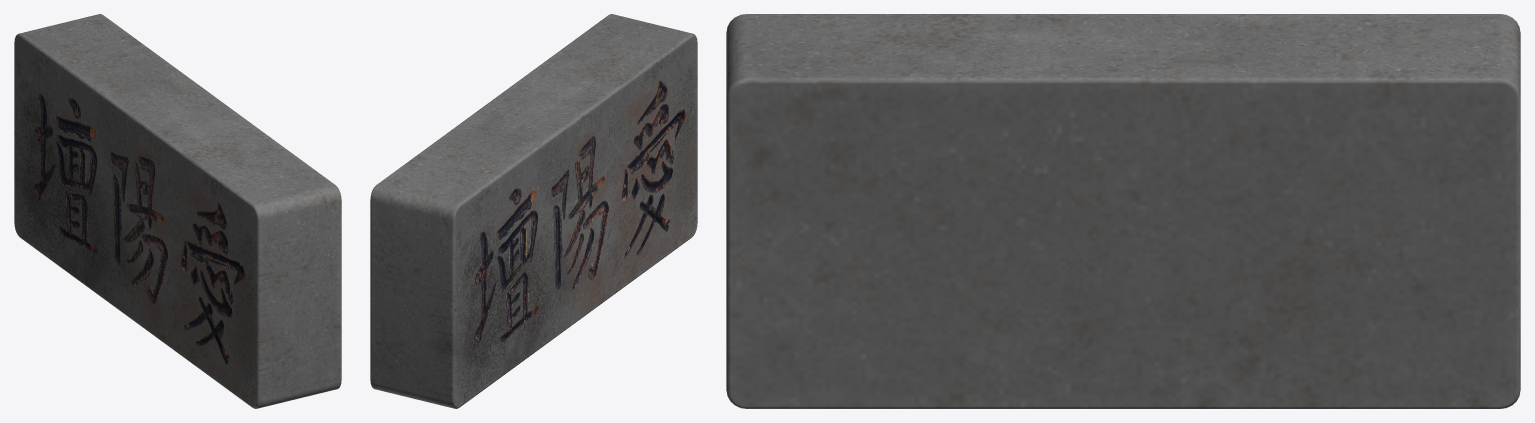
File: SM_Tablet01c.fbx
3 renders of one model, left to right at view 1: azimuth 30°, elevation 25°; view 2: azimuth 150°, elevation 25°; view 3: azimuth 270°, elevation 25°, orthographic. The views are drawn at different scales.
Parts seen in each view (by area): view 1: SM_Tablet01c; view 2: SM_Tablet01c; view 3: SM_Tablet01c.
Part boxes in pixels (<box>): SM_Tablet01c: <box>14,14,341,408</box>; SM_Tablet01c: <box>370,14,697,408</box>; SM_Tablet01c: <box>726,14,1520,408</box>.
Bounding box in the file's own units: 10 × 50 × 23.
1 material, 1 textured.
